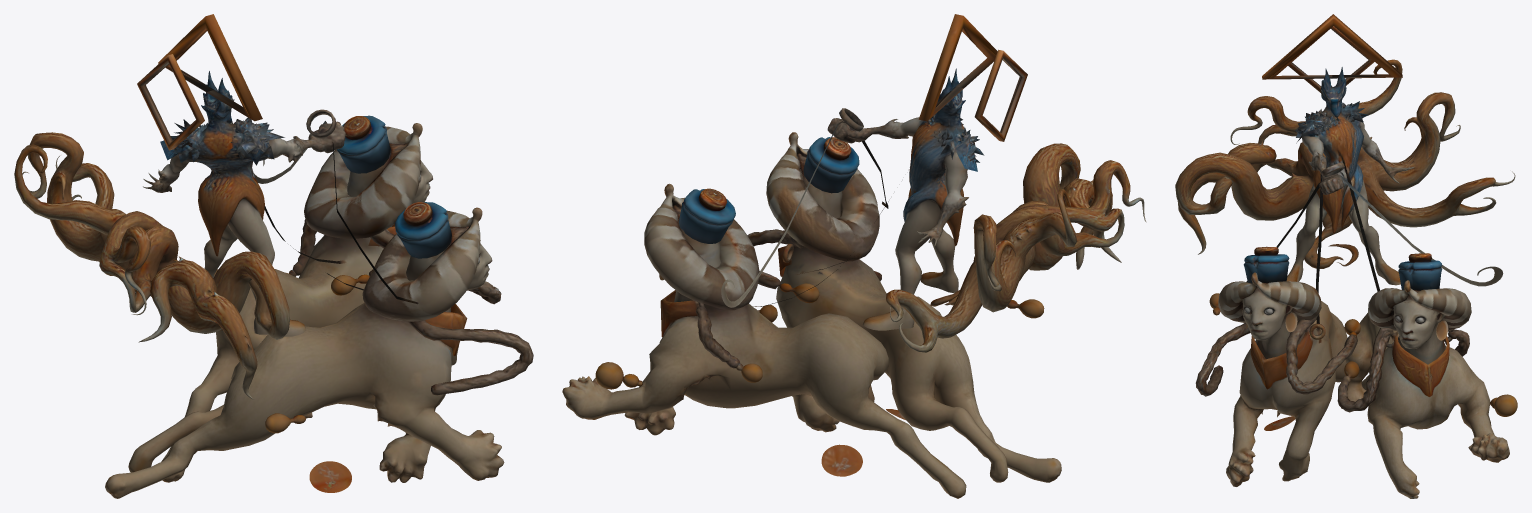
File: chariot.glb
3 renders of one model, left to right at view 1: azimuth 30°, elevation 25°; view 2: azimuth 150°, elevation 25°; view 3: azimuth 270°, elevation 25°, orthographic. The views are drawn at different scales.
Parts seen in each view (by area): view 1: tripo_node_16008026-3832-4df3-9dc2-4d9bedf86830; view 2: tripo_node_16008026-3832-4df3-9dc2-4d9bedf86830; view 3: tripo_node_16008026-3832-4df3-9dc2-4d9bedf86830.
Part boxes in pixels (<box>): tripo_node_16008026-3832-4df3-9dc2-4d9bedf86830: <box>14,14,533,498</box>; tripo_node_16008026-3832-4df3-9dc2-4d9bedf86830: <box>562,14,1146,498</box>; tripo_node_16008026-3832-4df3-9dc2-4d9bedf86830: <box>1175,14,1517,498</box>.
Size of the model in its own units: 0.9854 by 0.9995 by 0.7828.
1 material, 1 textured.
